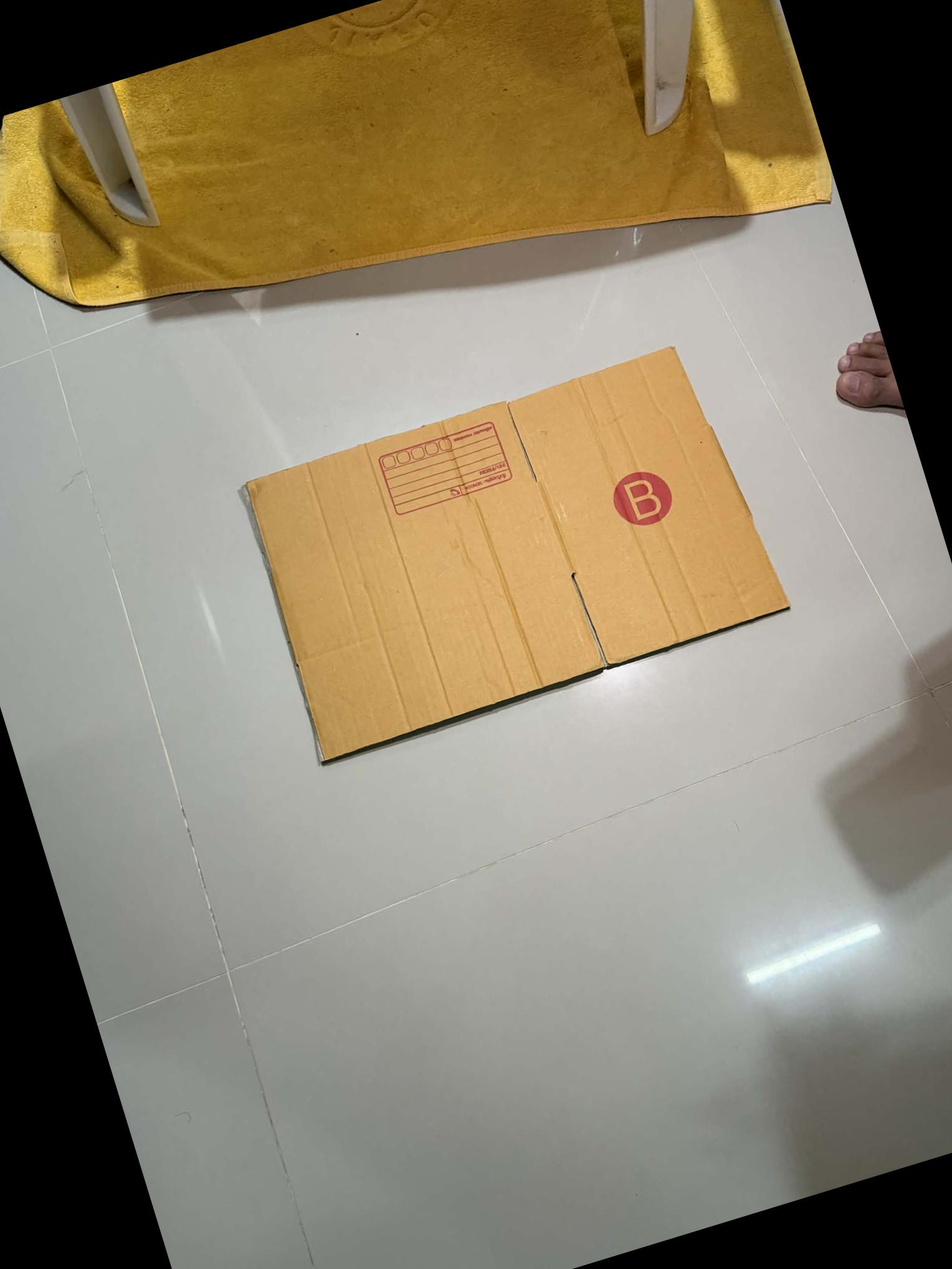box: (372, 417, 514, 521), (606, 460, 681, 535)
class0: (243, 341, 789, 761)
